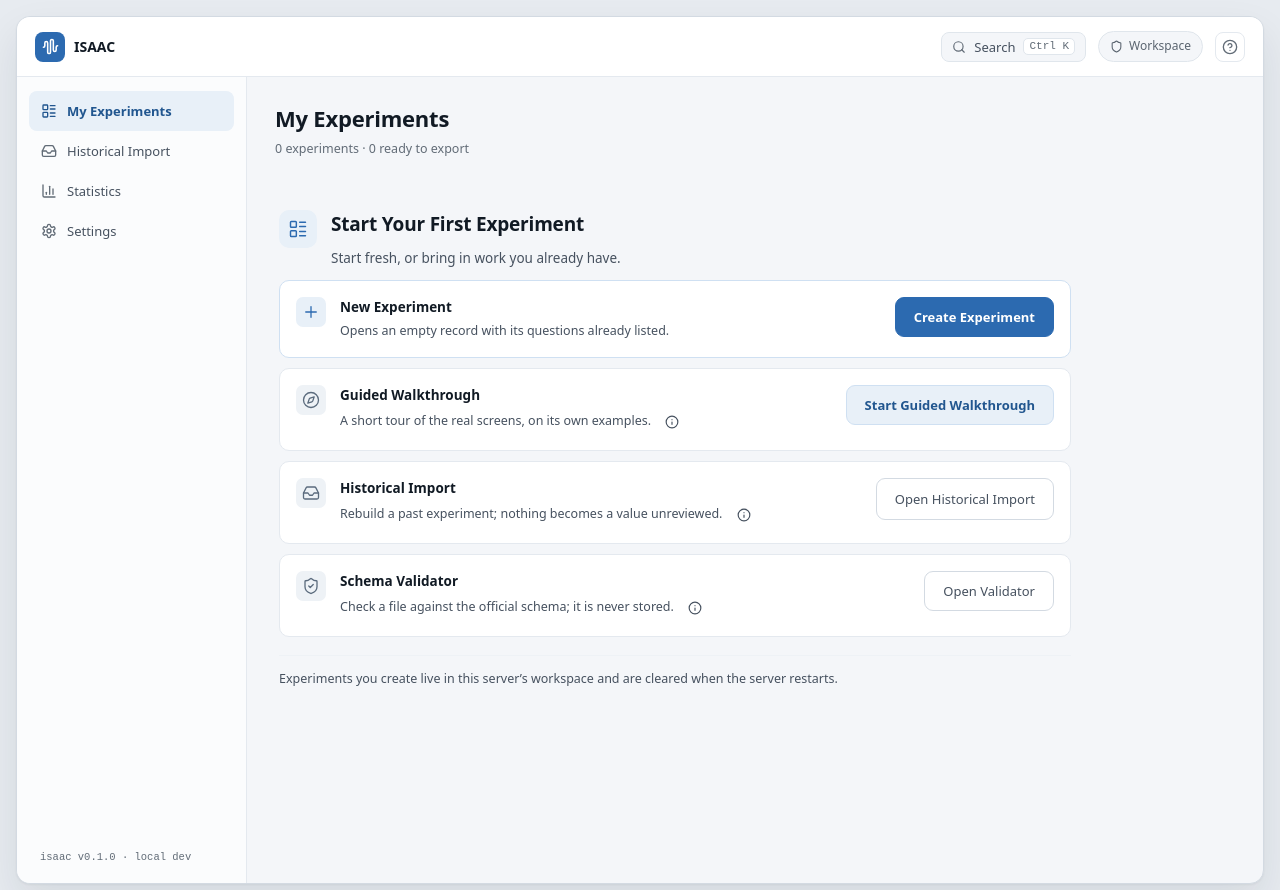
Scenario: My Experiments · Create Experiment › names an ended session instead of showing the raw transport message
Expected: the heading "Start Your First Experiment" is shown, [331, 210, 621, 240]
Click the button "Create Experiment" at (974, 316), box [895, 296, 1054, 336]
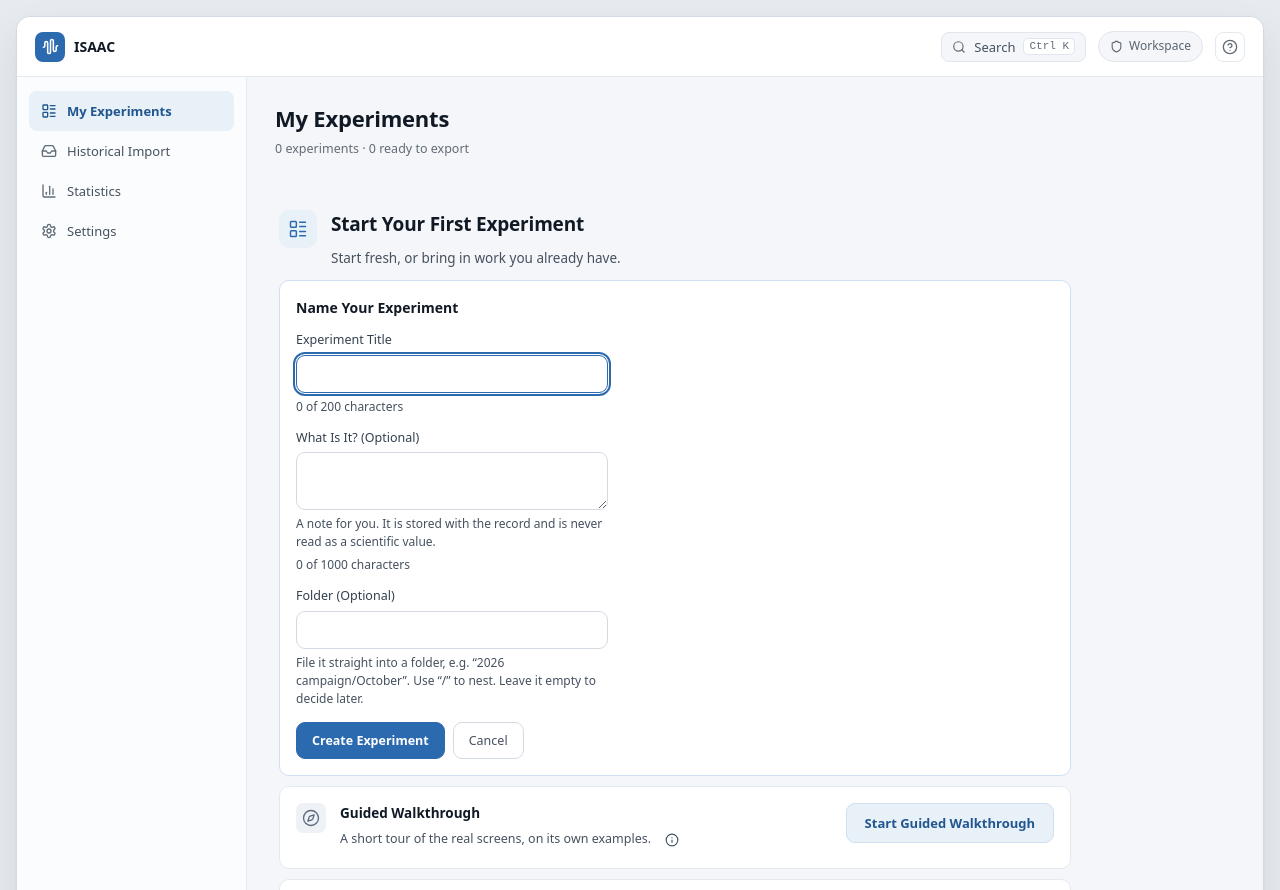
Type "Interrupted" into the field labelled "Experiment Title" at (452, 374), box [296, 355, 608, 393]
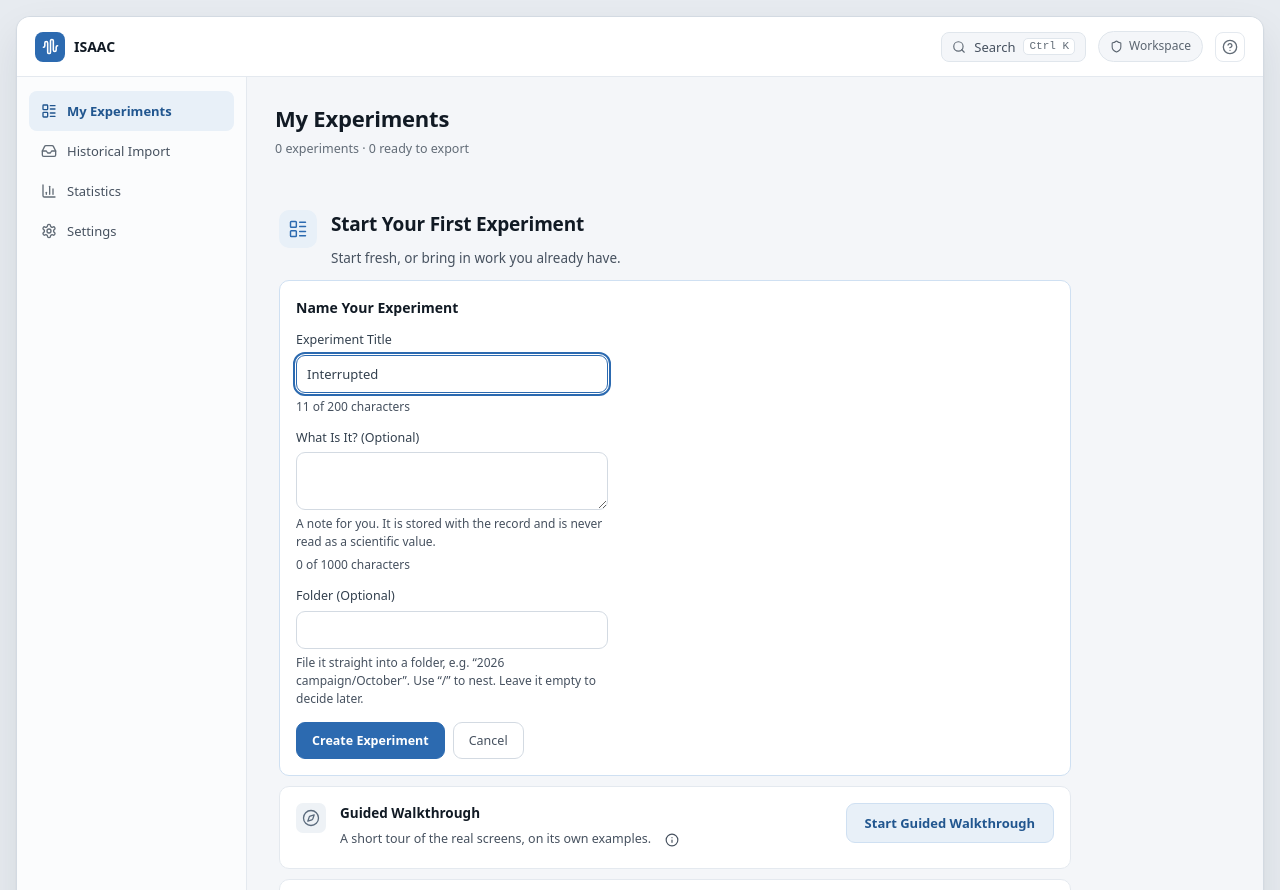
Click the button "Create Experiment" at (370, 740), box [296, 722, 445, 759]
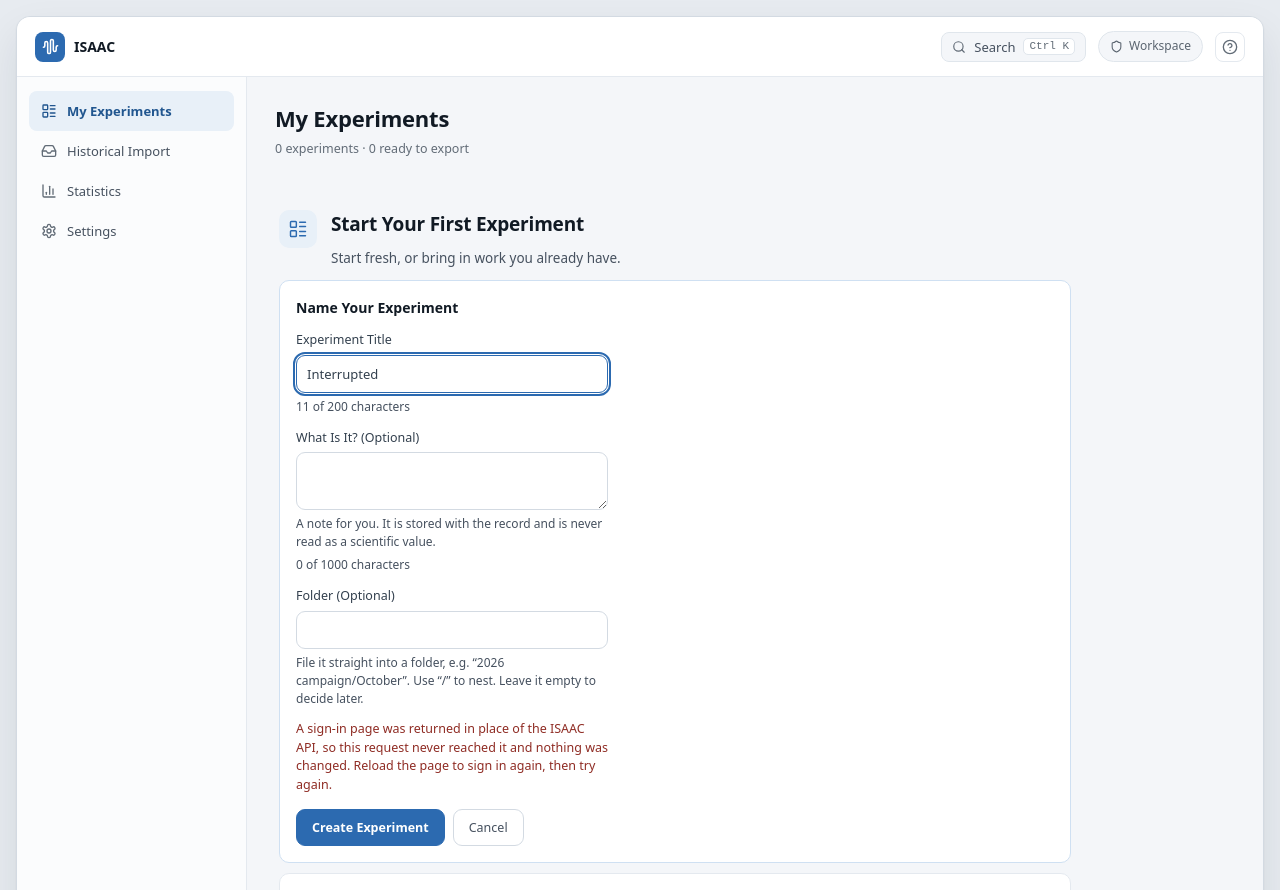
Result: the message shows "sign in again" at [296, 720, 608, 793]
